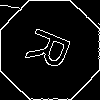R: (25, 25, 81, 76)
